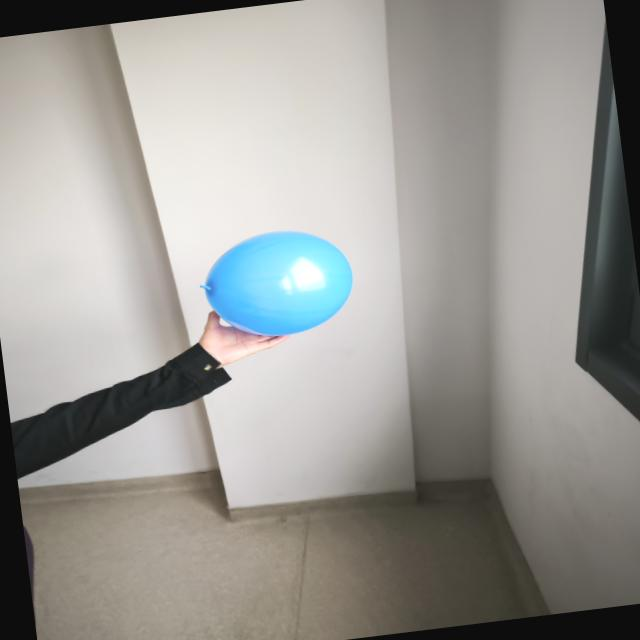balloon: (201, 231, 352, 335)
